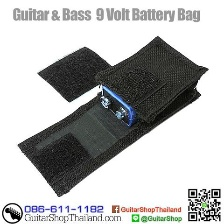battery: (97, 43, 195, 130)
